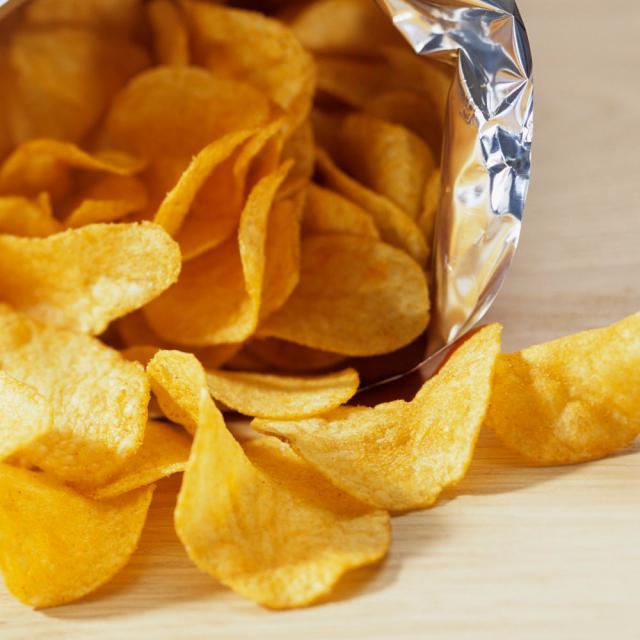Chips packaged: (14, 29, 458, 613)
